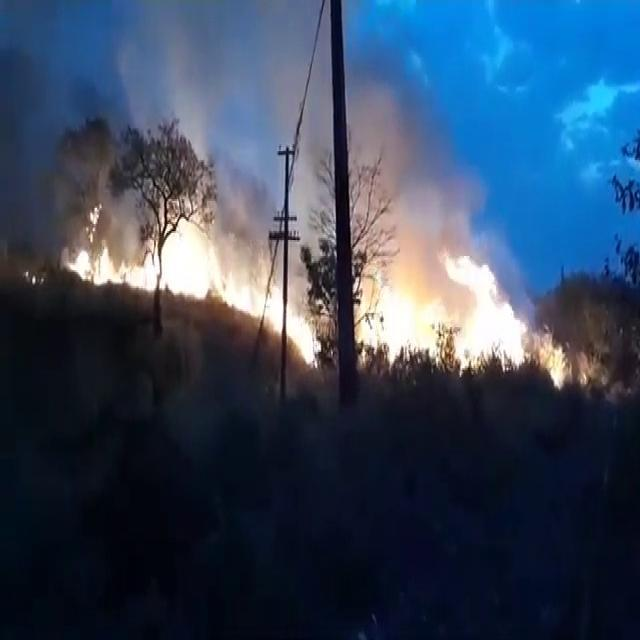Fire: (85, 206, 321, 368), (363, 246, 533, 372)
Smoke: (20, 0, 306, 252), (351, 58, 495, 276)
